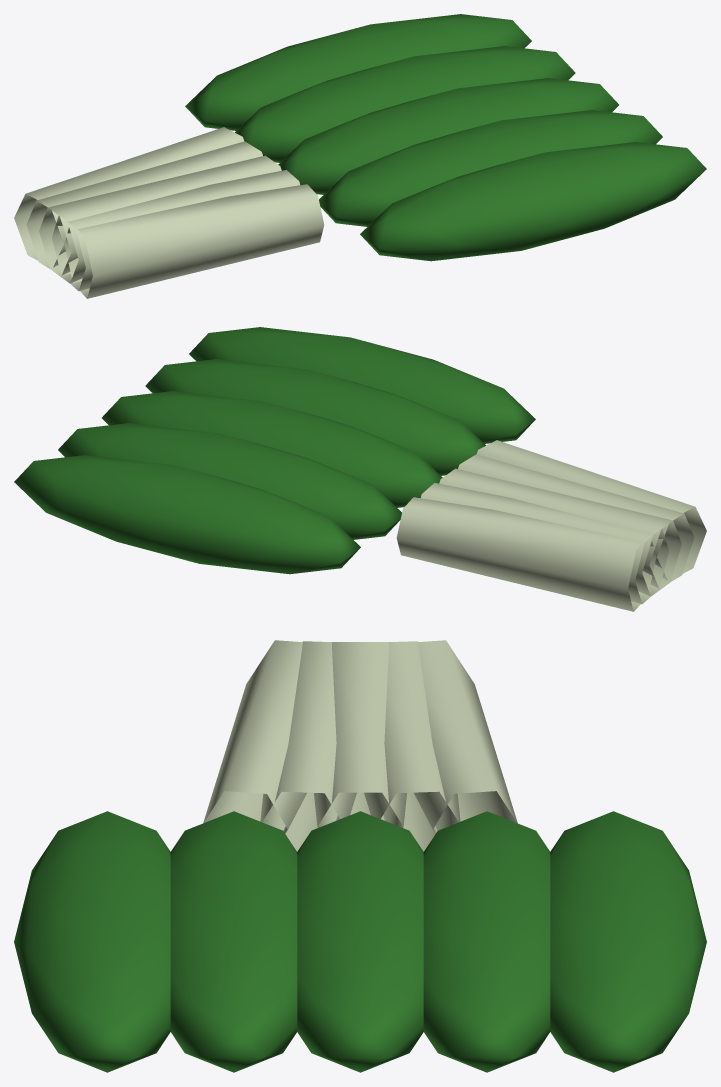
Rendered from item_veg_bokchoy.glb.
3 views of the same model, one above another, from view 1: azimuth 30°, elevation 25°; view 2: azimuth 150°, elevation 25°; view 3: azimuth 270°, elevation 25° (orthographic). The views are drawn at different scales.
Parts seen in each view (by area): view 1: item_veg_bokchoy_main; view 2: item_veg_bokchoy_main; view 3: item_veg_bokchoy_main.
Boxes of the visible parts, bbox=[...] form: item_veg_bokchoy_main: bbox=[14, 14, 706, 298]; item_veg_bokchoy_main: bbox=[14, 327, 706, 611]; item_veg_bokchoy_main: bbox=[14, 640, 706, 1072].
Bounding box in the file's own units: 0.2586 × 0.0358 × 0.1928.
